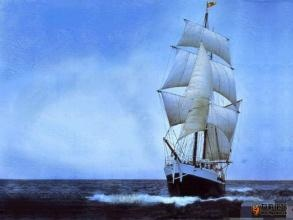fanchuan: (153, 1, 255, 203)
